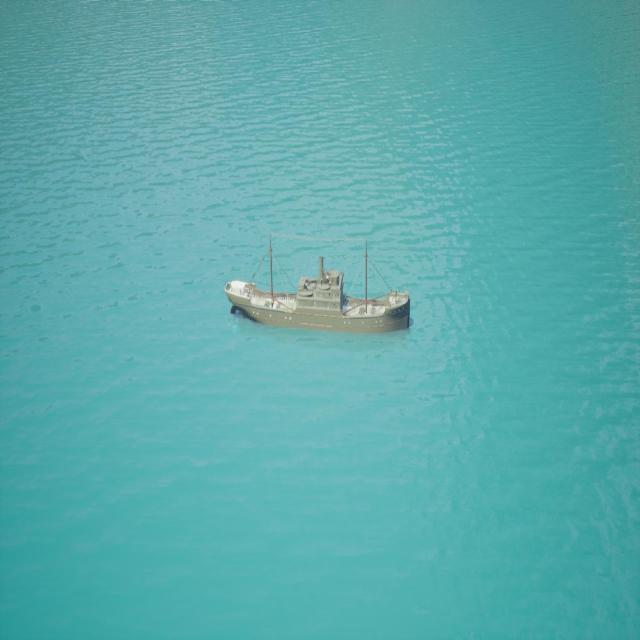fishing ship: (225, 245, 412, 337)
